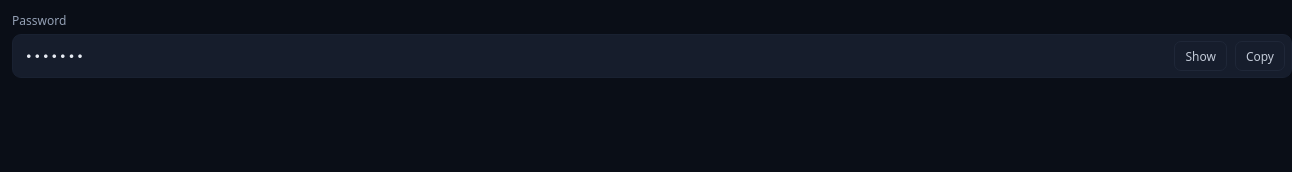
Test: CopyField › hides a secret until asked, and copies it either way
Check: the text "hunter2" is not shown
Click the button with aria-label "Copy Password" at (1260, 56), box [1235, 41, 1285, 71]
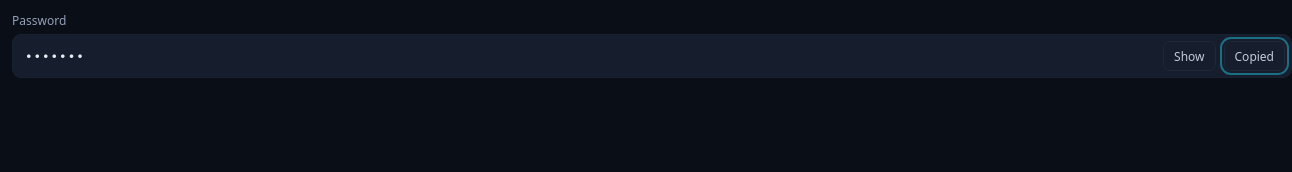
Click the button "Show" at (1189, 56), box [1163, 41, 1216, 71]
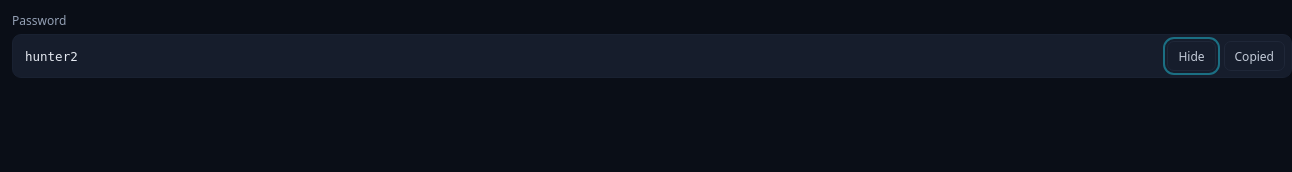
Check: the text "hunter2" is shown, box [25, 48, 78, 64]
Click the button "Hide" at (1191, 56), box [1167, 41, 1216, 71]
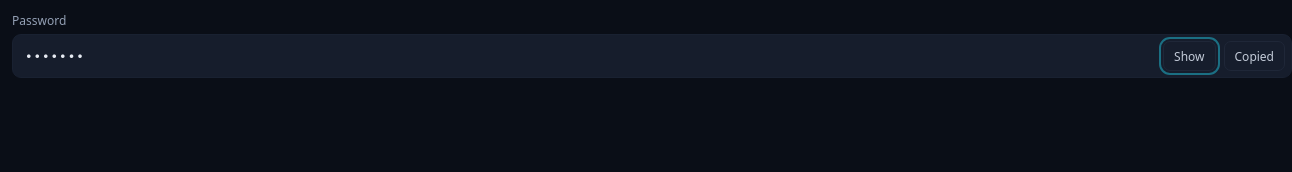
Check: the text "hunter2" is gone
